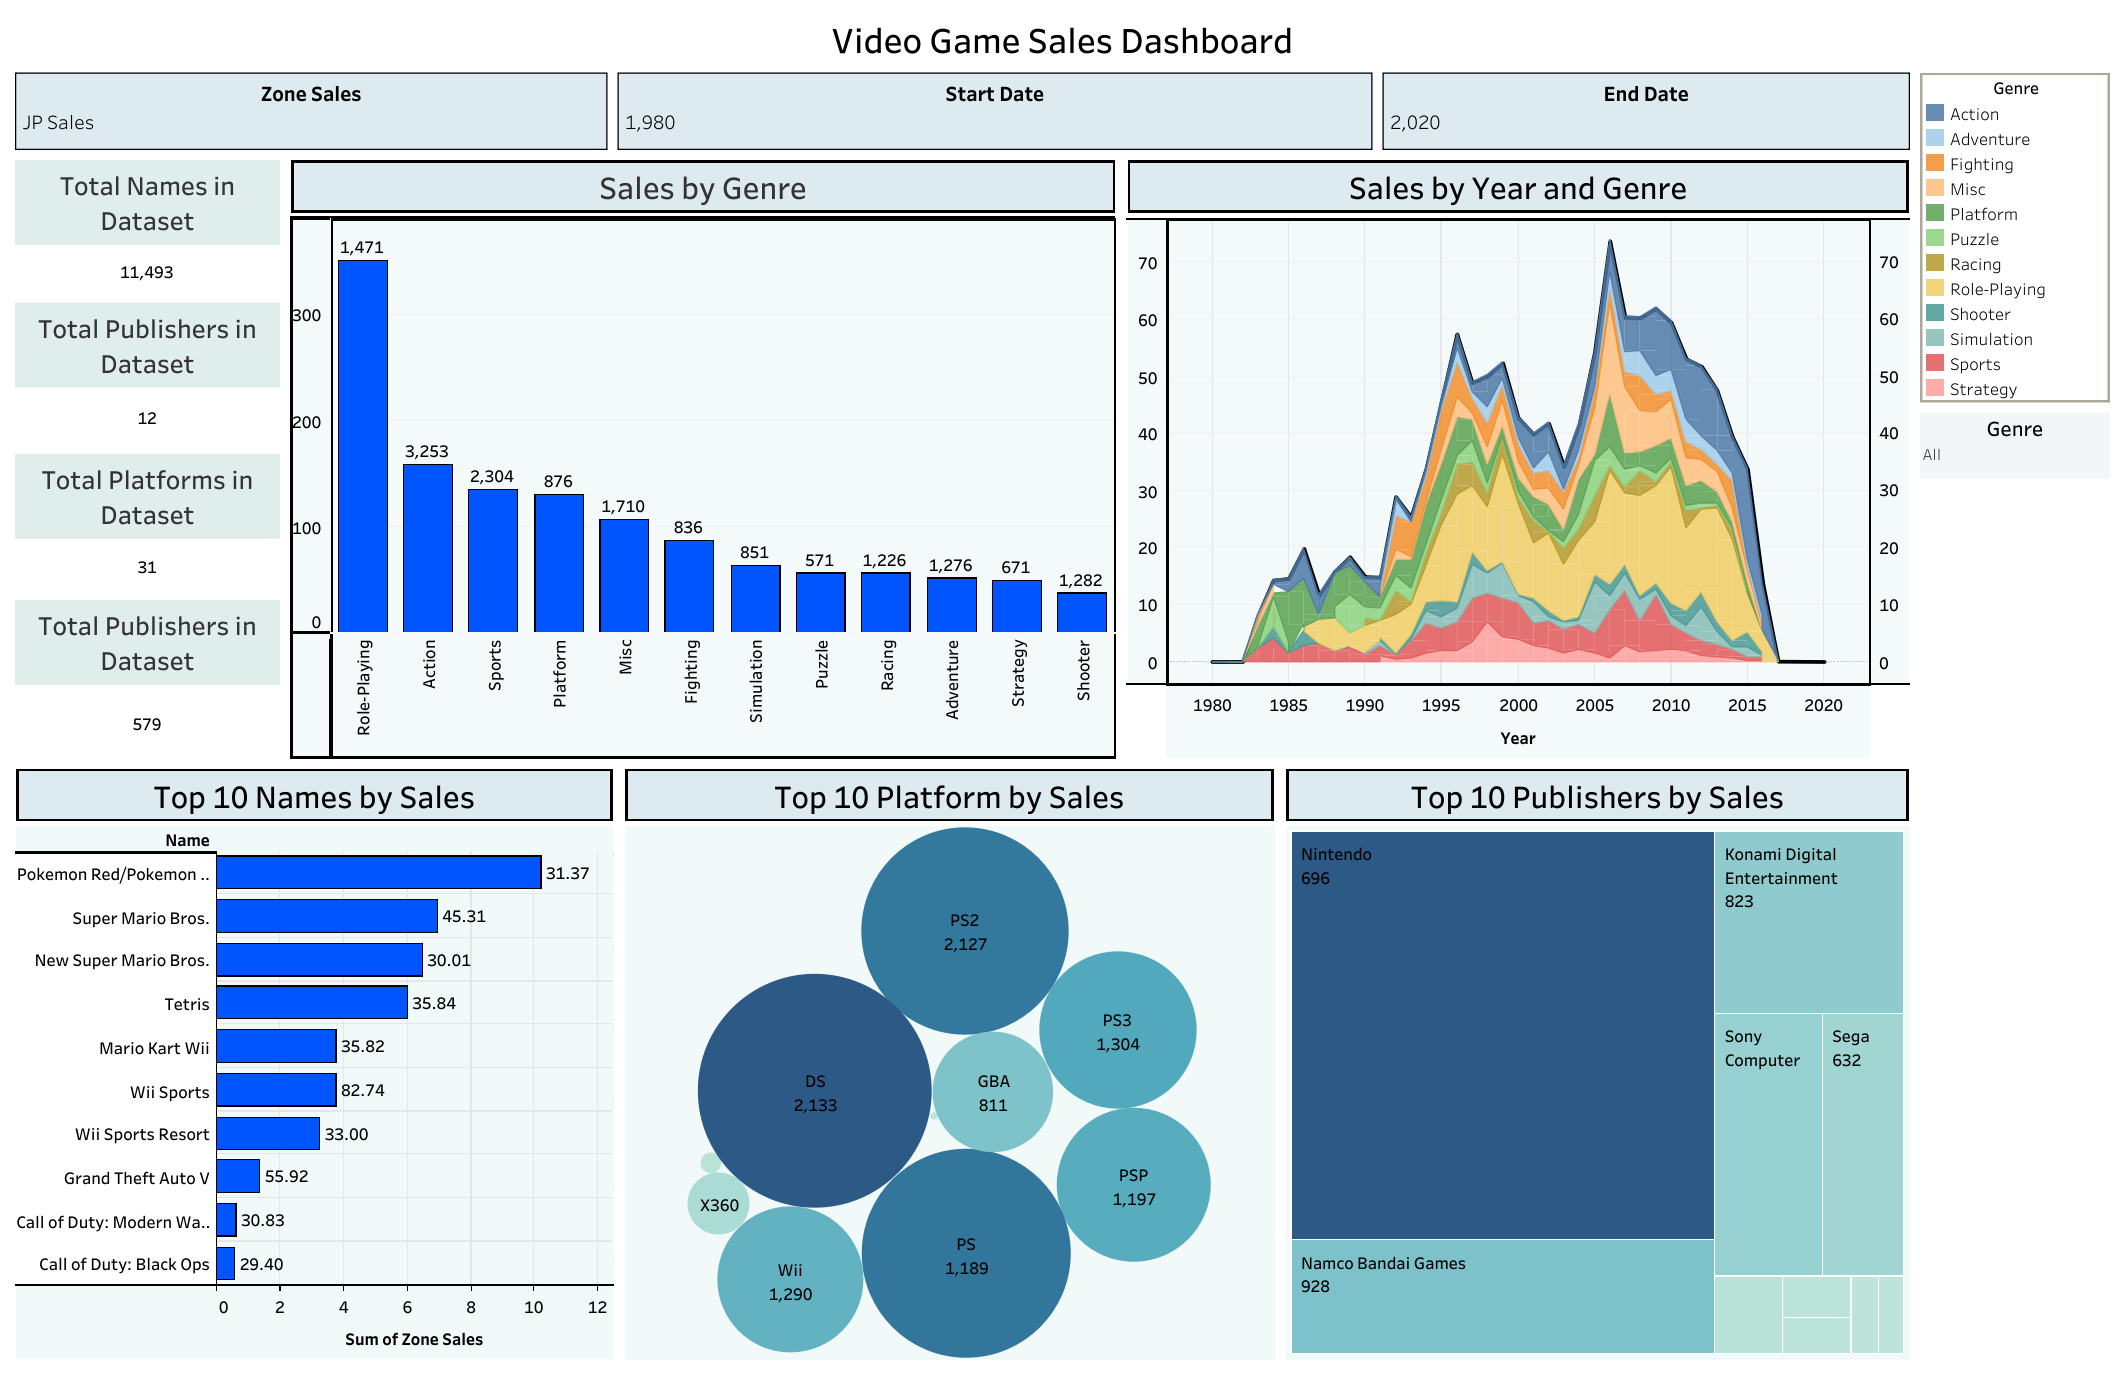

This screenshot's page, from the dashboard's own definition file:
{"tool":"tableau","page":{"name":"Video Game Sales Dash board","canvas":[1000,1000],"units":"permille","ordinal":0},"visuals":[{"type":"title","box":[4.7,7.3,990.6,48.2]},{"type":"parameter","param":"[Parameters].[Genre Parameter]","box":[4.7,55.5,283.5,63.6]},{"type":"parameter","param":"[Parameters].[Genre Parameter 2]","box":[288.2,55.5,360,63.6]},{"type":"parameter","param":"[Parameters].[Genre Parameter 3]","box":[648.2,55.5,252.9,63.6]},{"type":"legend","title":"Sales by Year","param":"[federated.1a8lqd408hsqrp1cpys1m03q2iyi].[none:Genre:nk]","box":[901.2,55.5,94.1,295.4]},{"type":"worksheet","title":"Total Names in Dataset","mark":"Automatic","box":[4.7,119,129.4,102.4]},{"type":"worksheet","title":"Sales by genre","mark":"Automatic","rows":["Calculation_261208791839977472"],"cols":["Genre"],"box":[134.1,119,393.5,438.9]},{"type":"worksheet","title":"Sales by Year","mark":"Automatic","rows":["Calculation_261208791839977472","Calculation_261208791839977472"],"cols":["Year"],"box":[527.6,119,373.5,438.9]},{"type":"worksheet","title":"Total Genre in Dataset","mark":"Automatic","box":[4.7,221.5,129.4,109.8]},{"type":"worksheet","title":"Total Platforms in Dataset","mark":"Automatic","box":[4.7,331.2,129.4,105.5]},{"type":"filter","title":"Sales by Year","param":"[federated.1a8lqd408hsqrp1cpys1m03q2iyi].[none:Genre:nk]","box":[901.2,350.9,94.1,61.8]},{"type":"worksheet","title":"Total Publishers in Dataset","mark":"Automatic","box":[4.7,436.8,129.4,121.2]},{"type":"worksheet","title":"Top 10 Names by Sales","mark":"Bar","rows":["Name"],"cols":["Calculation_261208791839977472"],"box":[4.7,558,286.5,434.7]},{"type":"worksheet","title":"Top 10 Platforms by Sales  ","mark":"Circle","box":[291.2,558,311.2,434.7]},{"type":"worksheet","title":"Top 10 Publishers by Sales","mark":"Automatic","box":[602.4,558,298.8,434.7]}]}

Visuals, with their boxes on the dashboard's canvas, which has no fixed pixel size, in thousandths of its width and height (x1, y1, x2, y2). These are canvas units, not pixel positions in the 2124x1374 screenshot, which may show the page scaled, cropped or inside an application window:
title: box=[5, 7, 995, 56]
parameter: box=[5, 56, 288, 119]
parameter: box=[288, 56, 648, 119]
parameter: box=[648, 56, 901, 119]
"Sales by Year" legend: box=[901, 56, 995, 351]
"Total Names in Dataset" worksheet: box=[5, 119, 134, 221]
"Sales by genre" worksheet: box=[134, 119, 528, 558]
"Sales by Year" worksheet: box=[528, 119, 901, 558]
"Total Genre in Dataset" worksheet: box=[5, 222, 134, 331]
"Total Platforms in Dataset" worksheet: box=[5, 331, 134, 437]
"Sales by Year" filter: box=[901, 351, 995, 413]
"Total Publishers in Dataset" worksheet: box=[5, 437, 134, 558]
"Top 10 Names by Sales" worksheet (Bar marks): box=[5, 558, 291, 993]
"Top 10 Platforms by Sales  " worksheet (Circle marks): box=[291, 558, 602, 993]
"Top 10 Publishers by Sales" worksheet: box=[602, 558, 901, 993]
